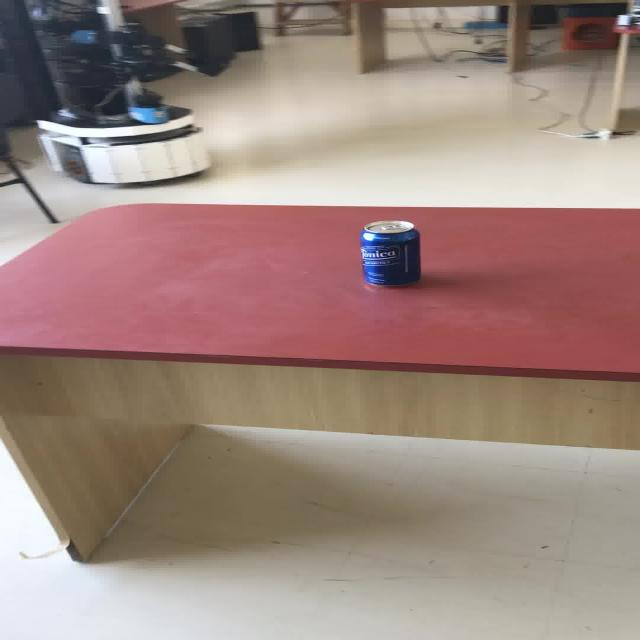tonic: (358, 219, 421, 286)
